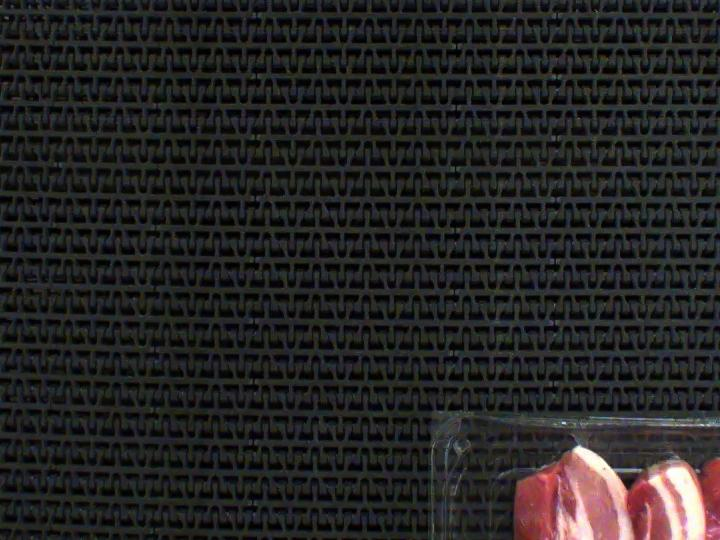packaging-error: (566, 422, 600, 451)
